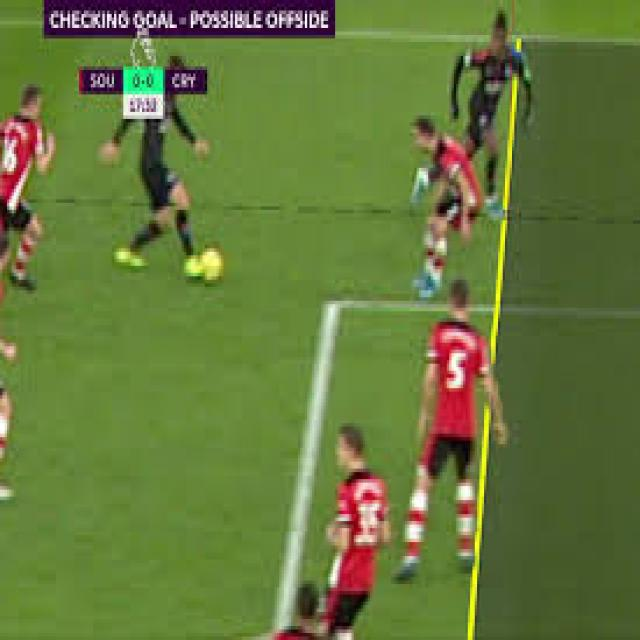offside: (403, 0, 502, 606)
